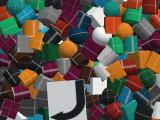Right: (46, 79, 87, 120)
